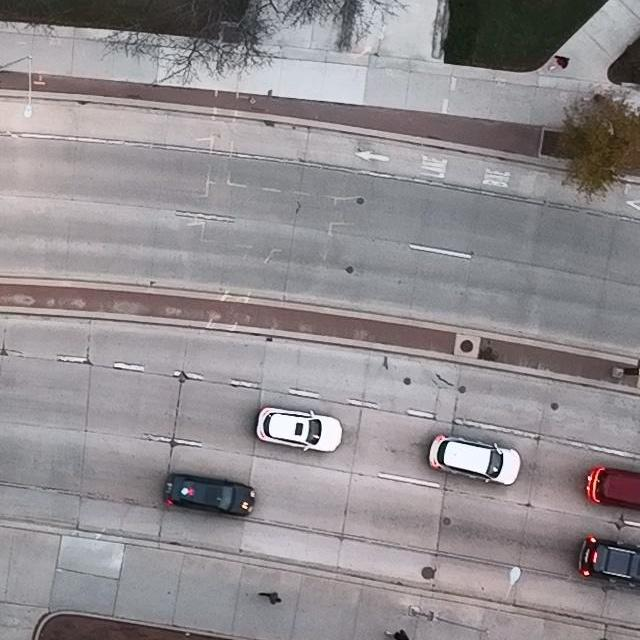car: (427, 434, 521, 485), (163, 472, 256, 517), (256, 407, 342, 452), (579, 535, 640, 586), (586, 466, 640, 510)
